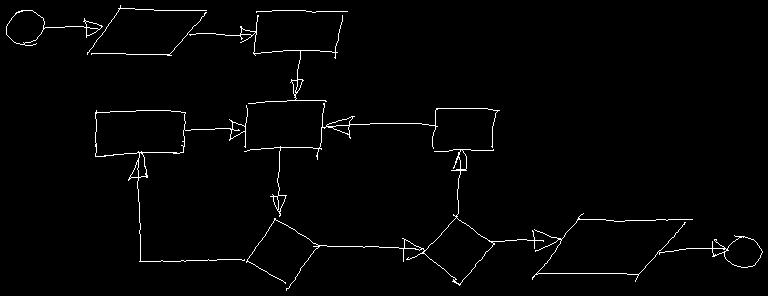arrow: (128, 151, 244, 261), (313, 238, 424, 261), (321, 116, 437, 138), (489, 229, 560, 251), (185, 119, 245, 140), (659, 239, 728, 256), (43, 18, 102, 37), (270, 146, 286, 216), (189, 26, 256, 42), (451, 149, 466, 215), (290, 50, 303, 99)
connection: (6, 10, 44, 45), (724, 235, 762, 267)
data: (532, 213, 692, 281), (87, 5, 206, 55)
decision: (246, 218, 319, 290), (422, 214, 494, 285)
process: (244, 100, 326, 159), (253, 10, 347, 58), (95, 110, 185, 156), (432, 108, 499, 151)
